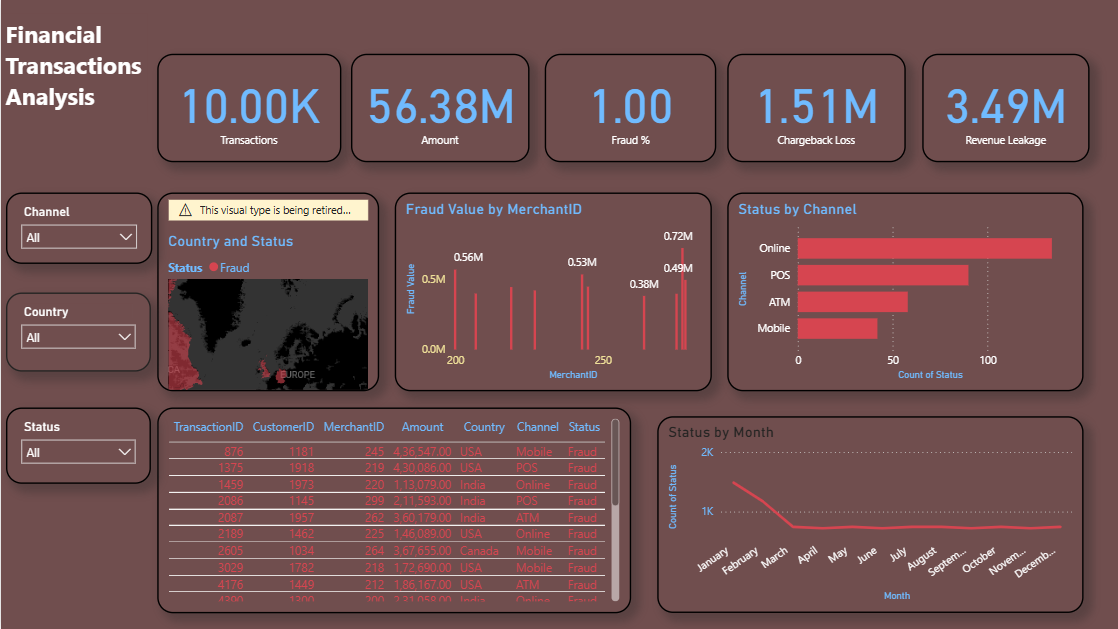

What the dashboard file says about the page in this screenshot:
{"tool":"powerbi","page":{"name":"Page 1","canvas":[1280,720],"ordinal":0},"visuals":[{"type":"card","fields":{"Values":["CountNonNull(financial transactions.TransactionID)"]},"box":[178.8,61.2,210,123.8],"z":0},{"type":"card","fields":{"Values":["Sum(financial transactions.Amount)"]},"box":[400,61.2,203.8,123.8],"z":1000},{"type":"card","fields":{"Values":["financial transactions.Fraud %"]},"box":[621.2,61.2,196.2,123.8],"z":2000},{"type":"card","fields":{"Values":["financial transactions.Chargeback Loss"]},"box":[830,61.2,203.8,123.8],"z":3000},{"type":"card","fields":{"Values":["financial transactions.Revenue Leakage"]},"box":[1052.5,61.2,191.2,123.8],"z":4000},{"type":"barChart","title":"Status by Channel","fields":{"Category":["financial transactions.Channel"],"Y":["CountNonNull(financial transactions.Status)"]},"box":[830.3,220.1,407.2,227.4],"z":5000},{"type":"columnChart","fields":{"Category":["financial transactions.MerchantID"],"Y":["financial transactions.Fraud Value"]},"box":[450,220,362.5,227.5],"z":6000},{"type":"filledMap","fields":{"Category":["financial transactions.Country"],"Series":["financial transactions.Status"]},"box":[178.8,220,253.8,227.5],"z":7000},{"type":"lineChart","title":"Status by Month","fields":{"Y":["CountNonNull(financial transactions.Status)"],"Category":["financial transactions.TransactionDate.Variation.Date Hierarchy.Month"]},"box":[750,475,487.5,225],"z":8000},{"type":"tableEx","fields":{"Values":["financial transactions.TransactionID","financial transactions.CustomerID","financial transactions.MerchantID","financial transactions.Amount","financial transactions.Country","financial transactions.Channel","financial transactions.Status"]},"box":[178.8,465,541.2,235],"z":9000},{"type":"textbox","box":[0,15,167.5,125],"z":9001},{"type":"slicer","fields":{"Values":["financial transactions.Channel"]},"box":[5,220,167.1,81.4],"z":9002},{"type":"slicer","fields":{"Values":["financial transactions.Country"]},"box":[5.7,334.3,165.7,90],"z":9003},{"type":"slicer","fields":{"Values":["financial transactions.Status"]},"box":[5.7,465.7,165.7,87.1],"z":9004}]}

Visuals, with their boxes in screenshot pixels (x1, y1, x2, y2), scaled from the page's 1280x720 canvas onto the 1118x629 screenshot:
card - CountNonNull(financial transactions.TransactionID): pyautogui.locateOnScreen(156, 53, 340, 162)
card - Sum(financial transactions.Amount): pyautogui.locateOnScreen(349, 53, 527, 162)
card - financial transactions.Fraud %: pyautogui.locateOnScreen(543, 53, 714, 162)
card - financial transactions.Chargeback Loss: pyautogui.locateOnScreen(725, 53, 903, 162)
card - financial transactions.Revenue Leakage: pyautogui.locateOnScreen(919, 53, 1086, 162)
"Status by Channel" barChart: pyautogui.locateOnScreen(725, 192, 1081, 391)
columnChart - financial transactions.MerchantID x financial transactions.Fraud Value: pyautogui.locateOnScreen(393, 192, 710, 391)
filledMap - financial transactions.Country x financial transactions.Status: pyautogui.locateOnScreen(156, 192, 378, 391)
"Status by Month" lineChart: pyautogui.locateOnScreen(655, 415, 1081, 612)
tableEx - financial transactions.TransactionID x financial transactions.CustomerID: pyautogui.locateOnScreen(156, 406, 629, 612)
textbox: pyautogui.locateOnScreen(0, 13, 146, 122)
slicer - financial transactions.Channel: pyautogui.locateOnScreen(4, 192, 150, 263)
slicer - financial transactions.Country: pyautogui.locateOnScreen(5, 292, 150, 371)
slicer - financial transactions.Status: pyautogui.locateOnScreen(5, 407, 150, 483)
